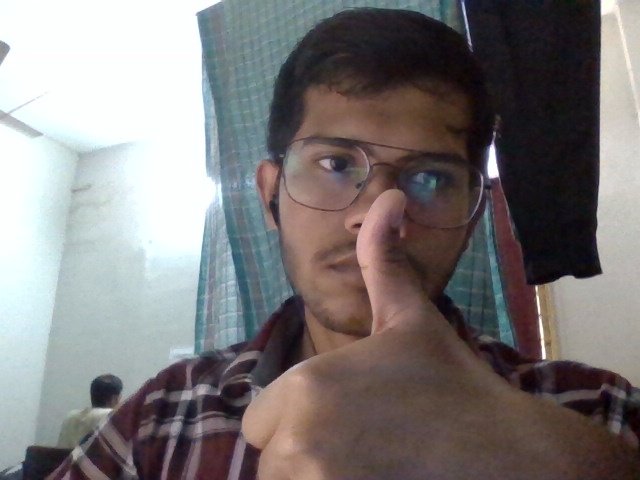ThumbUp: (239, 187, 528, 480)
